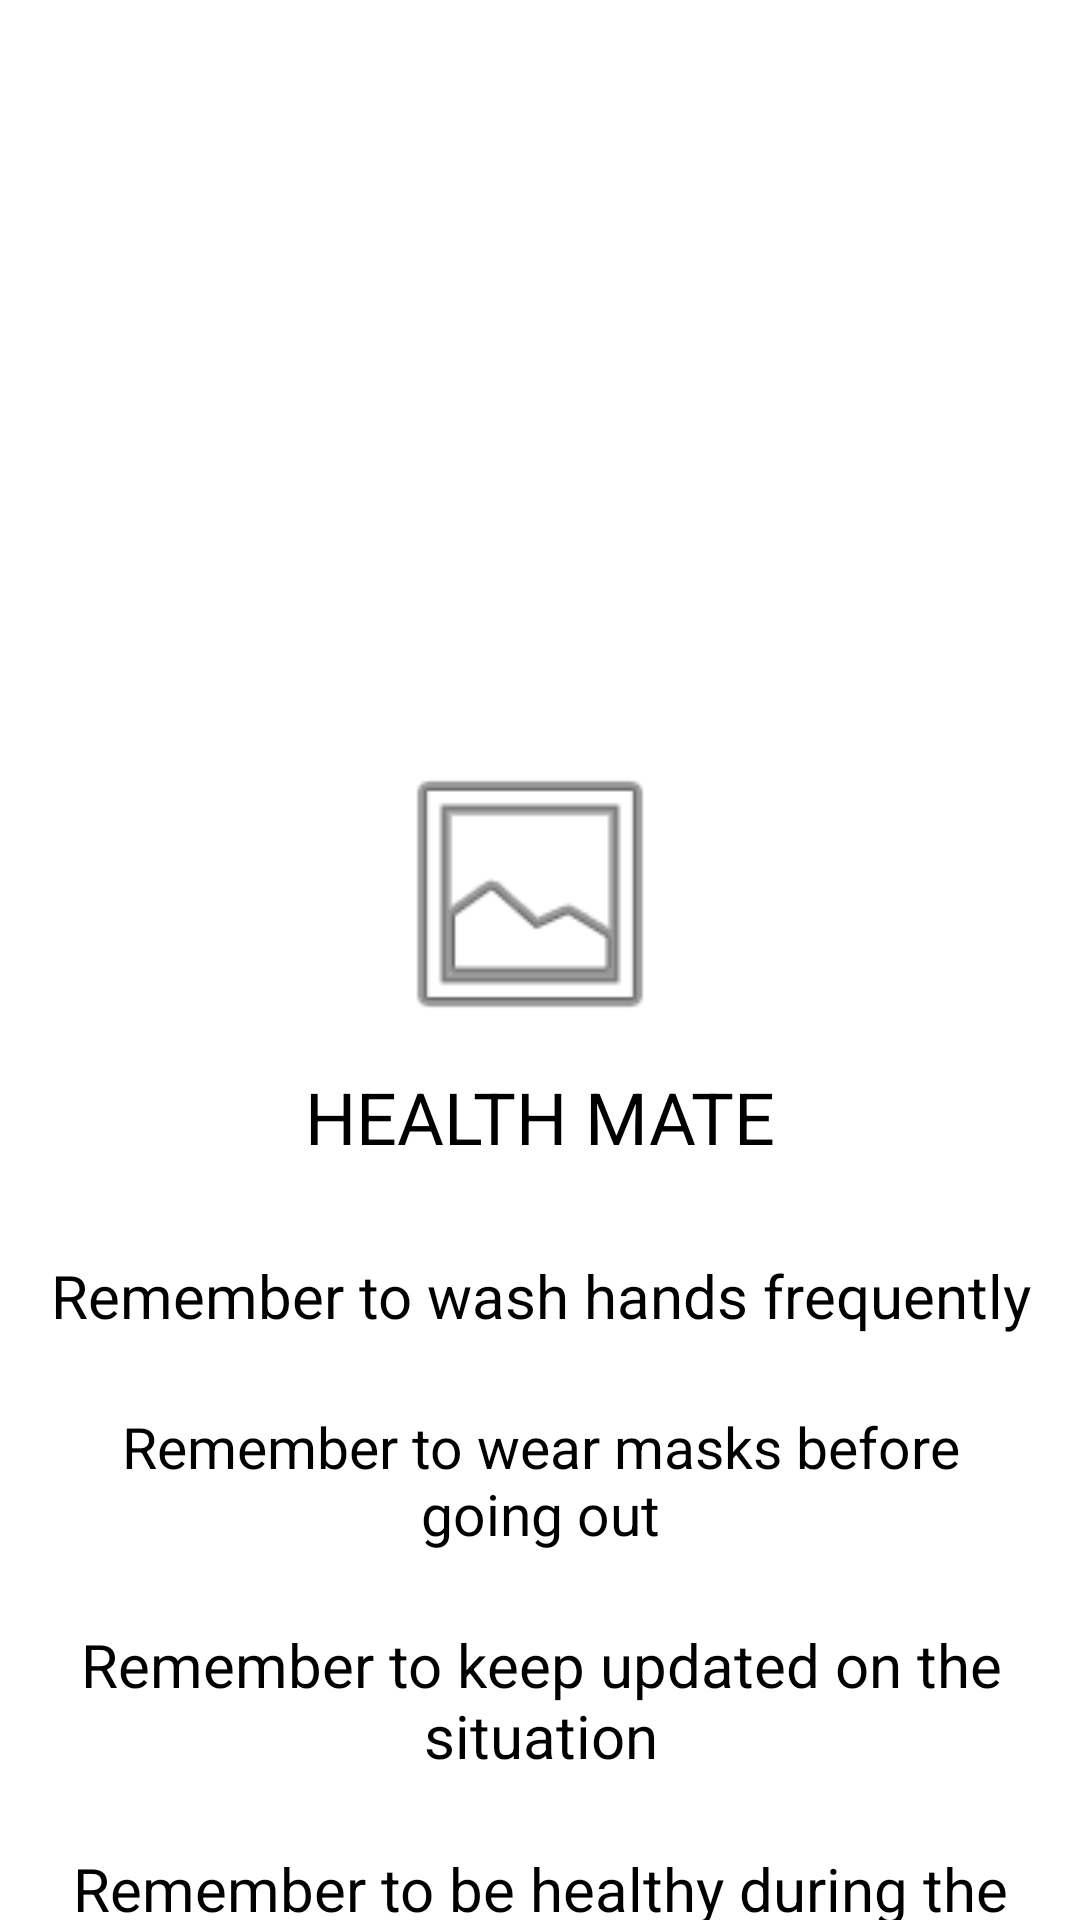

Locate icon controls on the screen. Image size 1080px x 1920px, boxes as (x1, y1, x2, y2).
gallery: (417, 781, 643, 1007)
